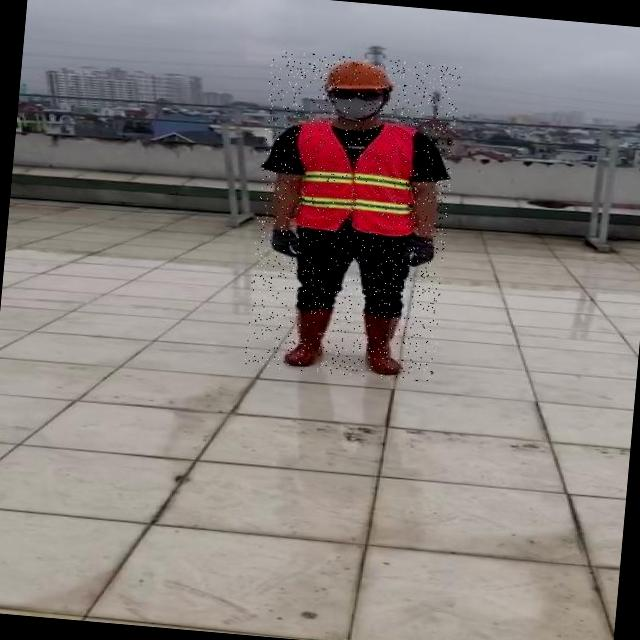boots: (355, 308, 408, 377), (280, 304, 336, 369)
gloves: (262, 201, 309, 266), (394, 216, 444, 274)
helmet: (317, 54, 395, 96)
vest: (287, 116, 426, 240)
